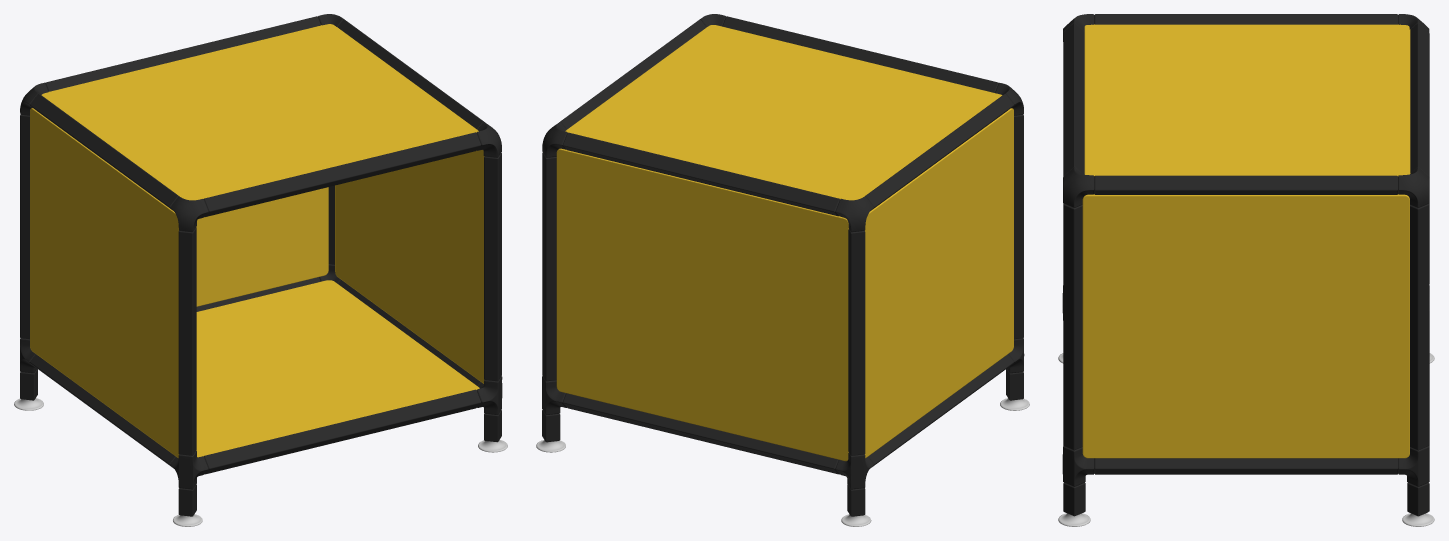
3 views of the same model, side by side, from view 1: azimuth 30°, elevation 25°; view 2: azimuth 150°, elevation 25°; view 3: azimuth 270°, elevation 25° (orthographic). The views are drawn at different scales.
Parts seen in each view (by area): view 1: 420x374x330; view 2: 420x374x330; view 3: 420x374x330.
Part boxes in pixels (box(x1,y1,x2,y2)): 420x374x330: box(14, 14, 507, 526); 420x374x330: box(536, 14, 1029, 526); 420x374x330: box(1058, 14, 1434, 526).
Size of the model in its own units: 0.5099 by 0.4683 by 0.4631.
